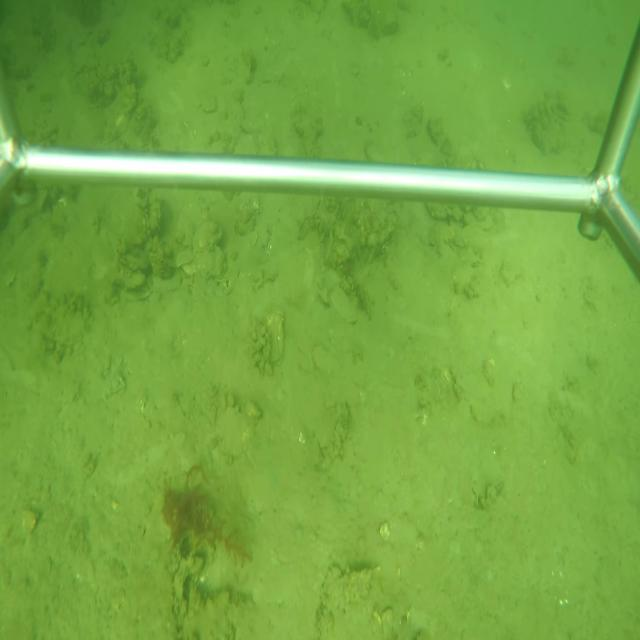Oyster-Closed: (264, 306, 287, 368), (327, 283, 357, 324), (118, 248, 150, 273)
Oyster-Indeterminate: (194, 218, 224, 252)
